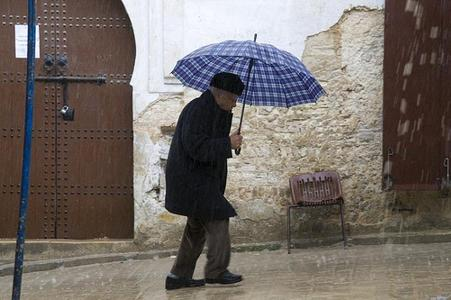person: (165, 71, 244, 292)
